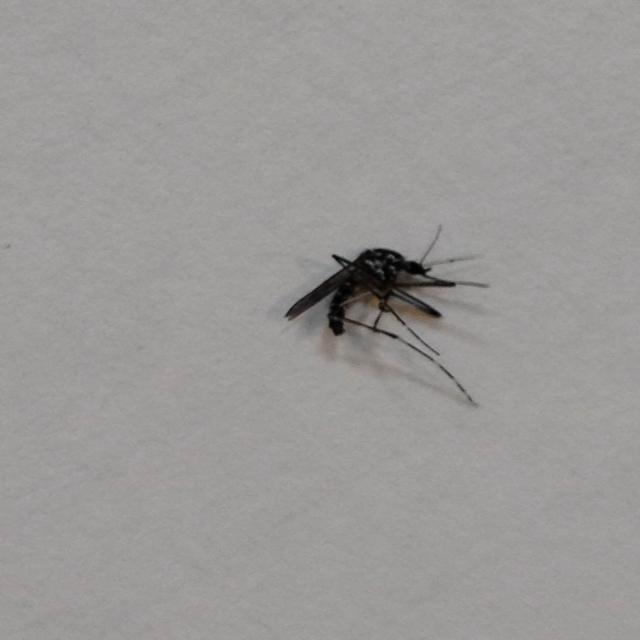albopictus: (274, 217, 491, 409)
